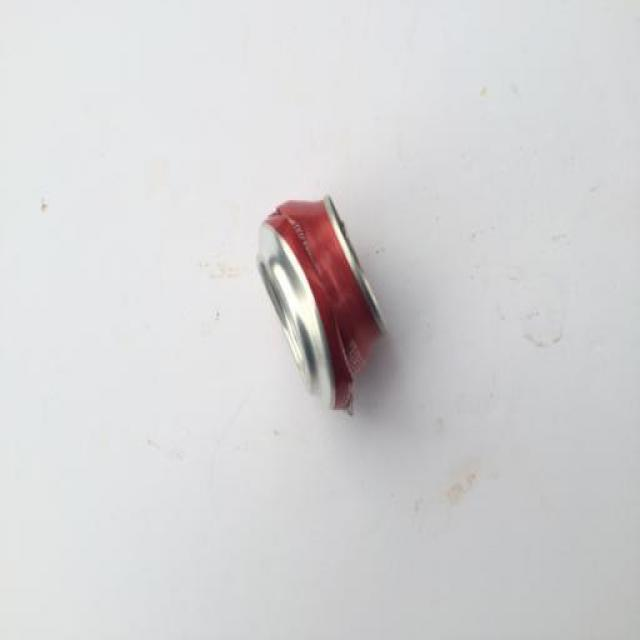metel: (248, 181, 414, 441)
